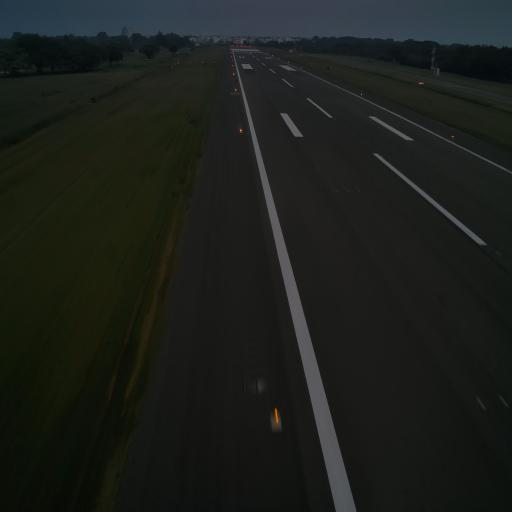off: (473, 393, 488, 417), (499, 393, 510, 413), (493, 246, 503, 263), (335, 187, 339, 195), (356, 186, 360, 194), (302, 131, 306, 137), (346, 187, 349, 194), (334, 115, 336, 122), (310, 130, 312, 136), (354, 132, 356, 137)
on: (270, 404, 282, 434), (238, 126, 244, 135), (450, 134, 454, 142)
